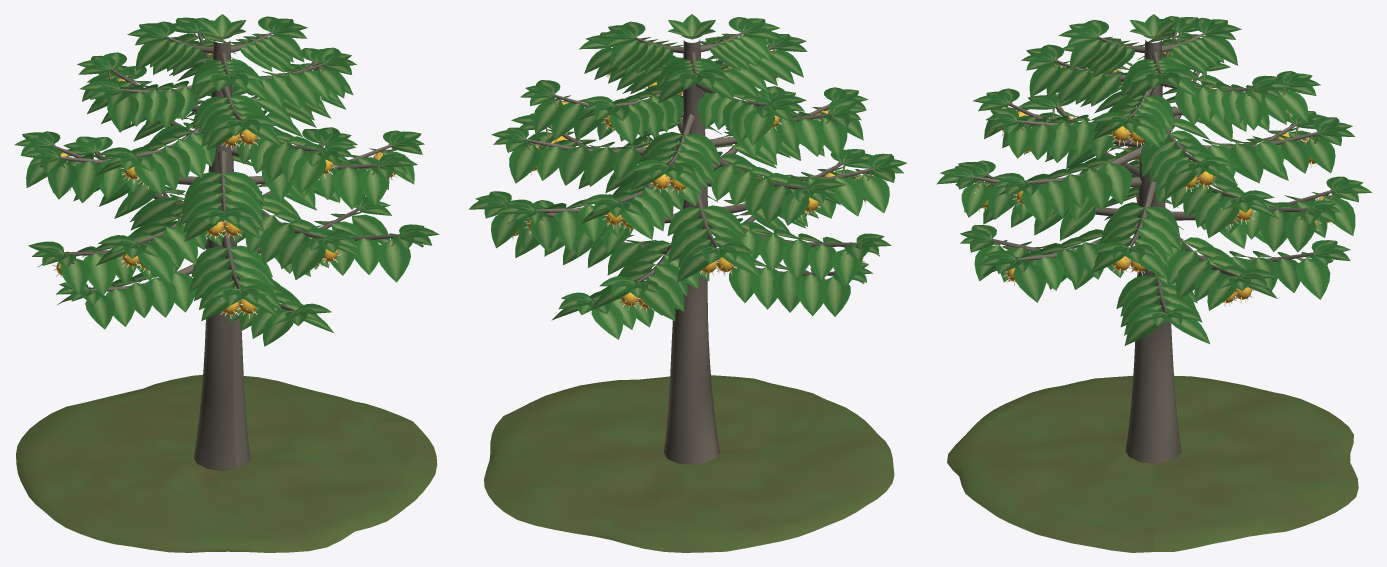
The model's file is kadam-tree.glb.
3 renders of one model, left to right at view 1: azimuth 30°, elevation 25°; view 2: azimuth 150°, elevation 25°; view 3: azimuth 270°, elevation 25°, orthographic.
Visible parts, largest first — view 1: kadam-leaf-upper, ground, bark, flower-heads, kadam-leaf-lower, flower-styles; view 2: kadam-leaf-upper, ground, bark, flower-heads, kadam-leaf-lower, flower-styles; view 3: kadam-leaf-upper, ground, bark, flower-heads, kadam-leaf-lower, flower-styles.
Part boxes in pixels (x1,y1,x2,y2): kadam-leaf-upper: [14, 14, 439, 346]; ground: [16, 374, 437, 552]; bark: [51, 32, 400, 471]; flower-heads: [56, 47, 395, 314]; kadam-leaf-lower: [37, 34, 423, 304]; flower-styles: [45, 40, 397, 318]; kadam-leaf-upper: [469, 14, 906, 339]; ground: [484, 375, 894, 552]; bark: [510, 32, 872, 464]; flower-heads: [513, 59, 867, 308]; kadam-leaf-lower: [507, 33, 879, 283]; flower-styles: [510, 58, 873, 312]; kadam-leaf-upper: [936, 14, 1371, 345]; ground: [947, 375, 1358, 552]; bark: [973, 32, 1333, 464]; flower-heads: [981, 52, 1330, 303]; kadam-leaf-lower: [955, 34, 1340, 263]; flower-styles: [974, 40, 1334, 306].
Size of the model in its own units: 2.4 by 2.67 by 2.42.
